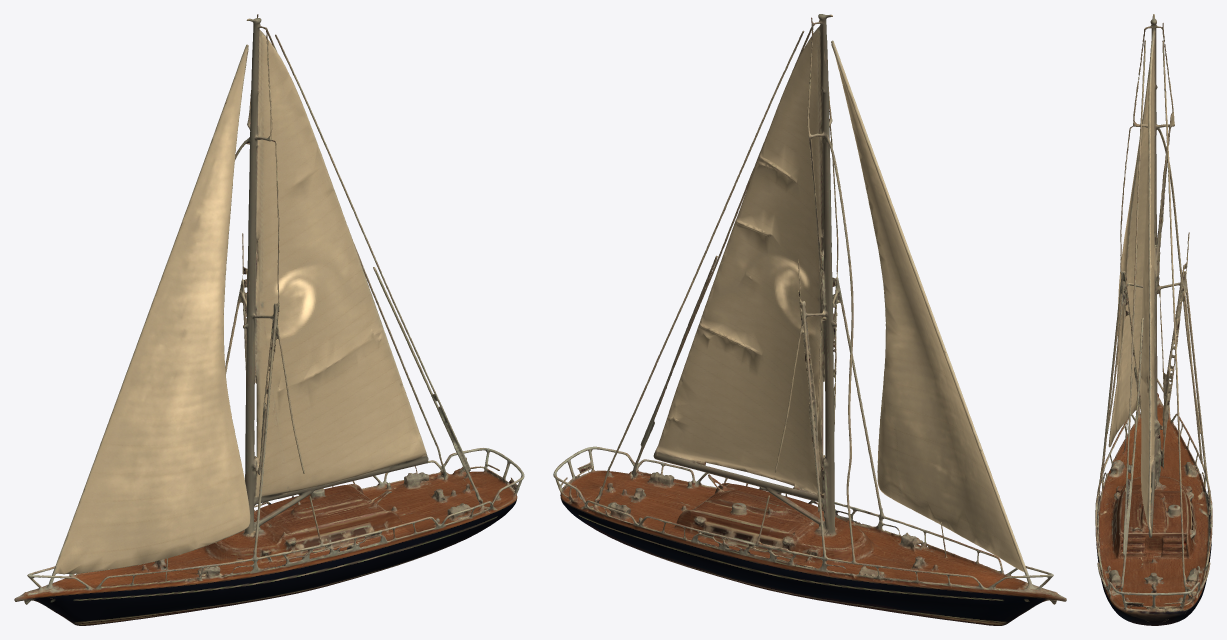
The model's file is coast-one-draft.glb.
3 renders of one model, left to right at view 1: azimuth 30°, elevation 25°; view 2: azimuth 150°, elevation 25°; view 3: azimuth 270°, elevation 25°, orthographic. The views are drawn at different scales.
Visible parts, largest first — view 1: Mesh_0; view 2: Mesh_0; view 3: Mesh_0.
Part boxes in pixels (left/top/right/bottom): Mesh_0: left=14, top=14, right=524, bottom=625; Mesh_0: left=553, top=14, right=1066, bottom=625; Mesh_0: left=1095, top=14, right=1212, bottom=625.
Bounding box in the file's own units: 1.72 × 1.9 × 0.3844.
1 material, 1 textured.
